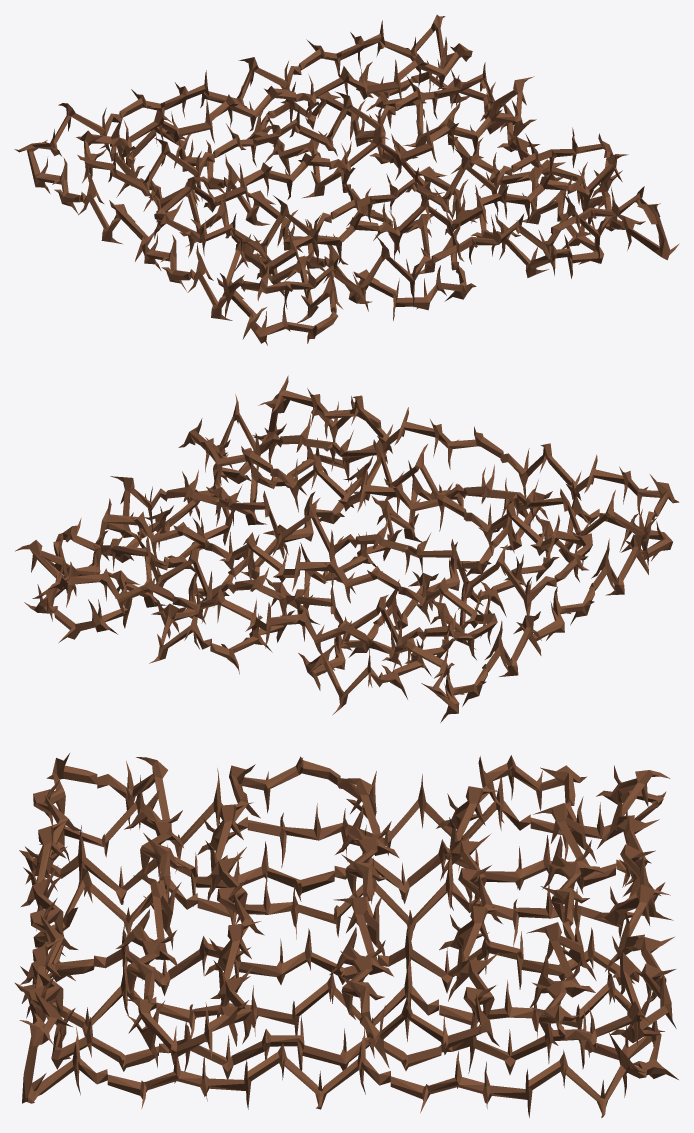
The model's file is arame-espinhoroseira.fbx.
3 views of the same model, one above another, from view 1: azimuth 30°, elevation 25°; view 2: azimuth 150°, elevation 25°; view 3: azimuth 270°, elevation 25° (orthographic). The views are drawn at different scales.
Parts seen in each view (by area): view 1: espinhosroseira; view 2: espinhosroseira; view 3: espinhosroseira.
Boxes of the visible parts, bbox=[...] form: espinhosroseira: bbox=[14, 14, 679, 345]; espinhosroseira: bbox=[15, 375, 679, 722]; espinhosroseira: bbox=[14, 753, 678, 1117].
Size of the model in its own units: 4.95 by 0.9984 by 4.93.
